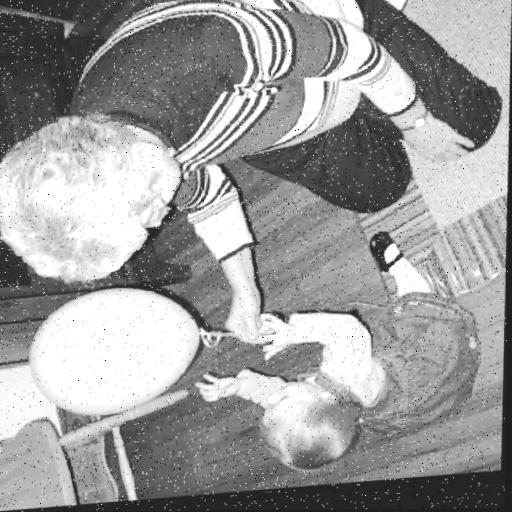balloon: (23, 284, 213, 424)
